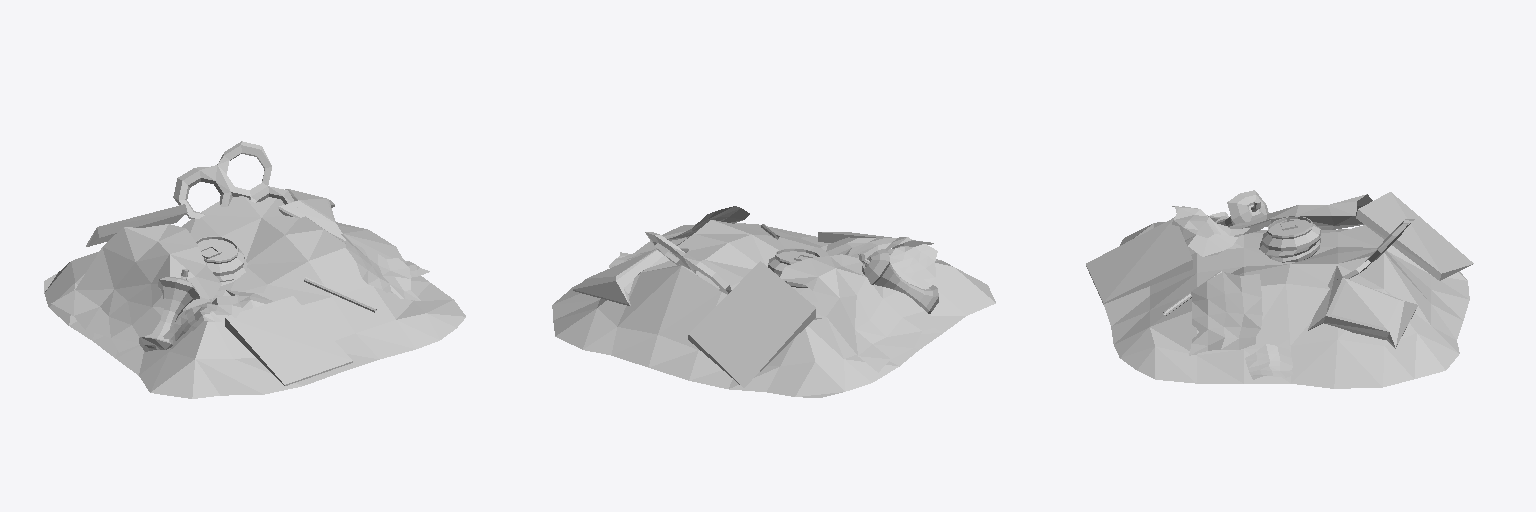
The model's file is garbageSmall.obj.
The picture shows the model from 3 angles: view 1: azimuth 30°, elevation 25°; view 2: azimuth 150°, elevation 25°; view 3: azimuth 270°, elevation 25°; orthographic projection.
Bounding box in the file's own units: 3.31 × 1.05 × 3.33.